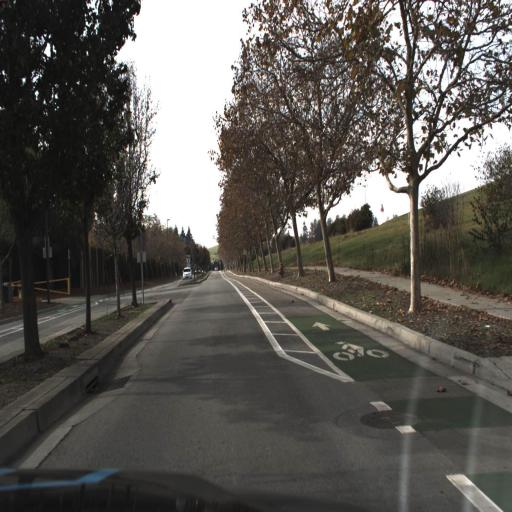car: (182, 267, 191, 280)
